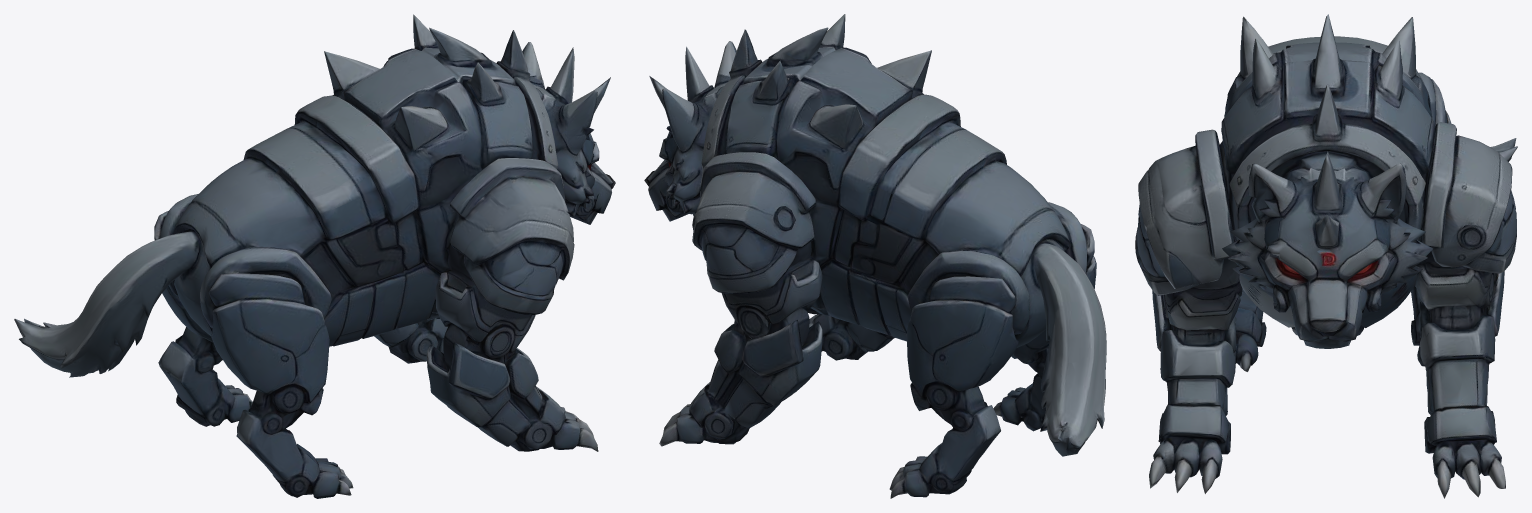
File: mecha_wolf.glb
3 renders of one model, left to right at view 1: azimuth 30°, elevation 25°; view 2: azimuth 150°, elevation 25°; view 3: azimuth 270°, elevation 25°, orthographic. The views are drawn at different scales.
Visible parts, largest first — view 1: tripo_node_146f3bec-c631-42db-9b09-8a3ec551f468; view 2: tripo_node_146f3bec-c631-42db-9b09-8a3ec551f468; view 3: tripo_node_146f3bec-c631-42db-9b09-8a3ec551f468.
Part boxes in pixels (bbox=[...]): tripo_node_146f3bec-c631-42db-9b09-8a3ec551f468: bbox=[14, 14, 615, 498]; tripo_node_146f3bec-c631-42db-9b09-8a3ec551f468: bbox=[644, 14, 1106, 498]; tripo_node_146f3bec-c631-42db-9b09-8a3ec551f468: bbox=[1135, 14, 1517, 498].
Bounding box in the file's own units: 1 × 0.7248 × 0.5808.
1 material, 1 textured.
